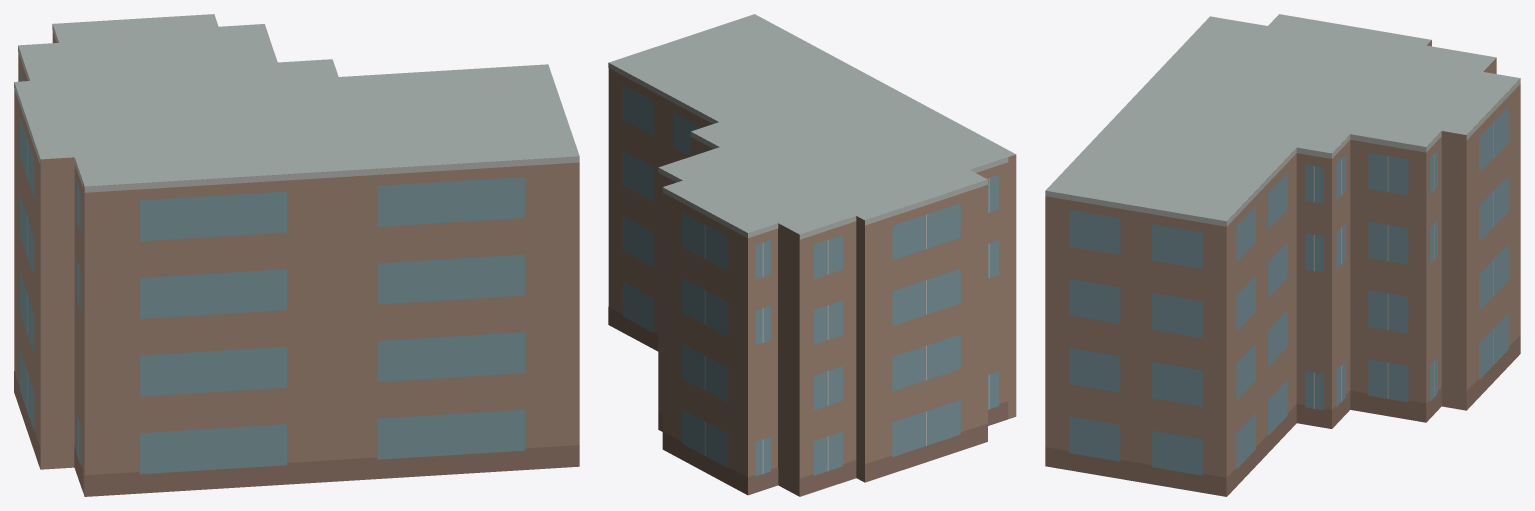
Rendered from residential-5a07da54-f329-407d-8e9b-784fdefee922.glb.
3 renders of one model, left to right at view 1: azimuth 30°, elevation 25°; view 2: azimuth 150°, elevation 25°; view 3: azimuth 270°, elevation 25°, orthographic. The views are drawn at different scales.
Visible parts, largest first — view 1: residential-5a07da54-f329-407d-8e9b-784fdefee922.tmp; view 2: residential-5a07da54-f329-407d-8e9b-784fdefee922.tmp; view 3: residential-5a07da54-f329-407d-8e9b-784fdefee922.tmp.
Boxes of the visible parts, x1,y1,x2,y2 form: residential-5a07da54-f329-407d-8e9b-784fdefee922.tmp: [14, 14, 579, 496]; residential-5a07da54-f329-407d-8e9b-784fdefee922.tmp: [608, 14, 1016, 496]; residential-5a07da54-f329-407d-8e9b-784fdefee922.tmp: [1045, 14, 1520, 496].
Size of the model in its own units: 19.69 by 12.2 by 19.08.
